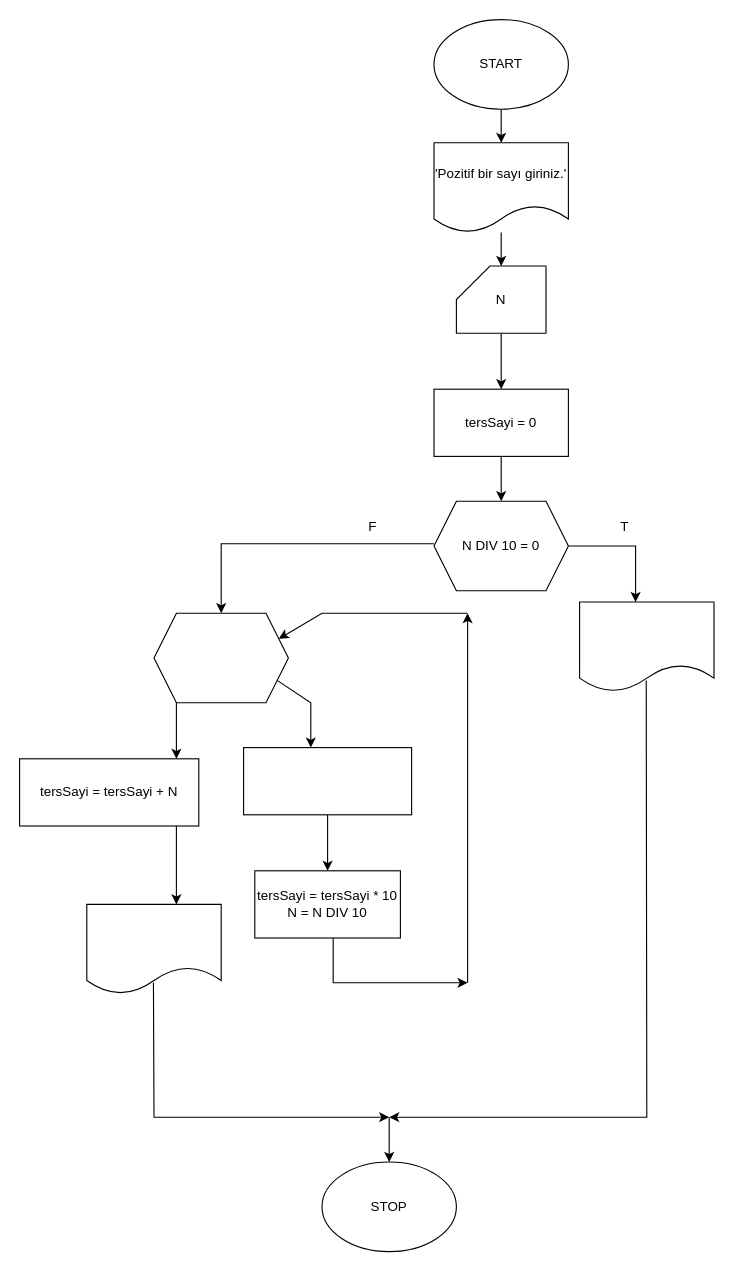
The diagram is 734 pixels wide and 1271 high, and some of its shapes have lost their labels. Here are the shapes that lost their labels. From the top down, the box of each, then its label:
(153, 612, 288, 703): N > 10
(578, 601, 714, 692): 'Hata!'
(242, 746, 412, 815): digit = N DIV 10 tersSayi = tersSayi + digit
(86, 903, 221, 994): 'Bu sayının tersi', tersSayi
